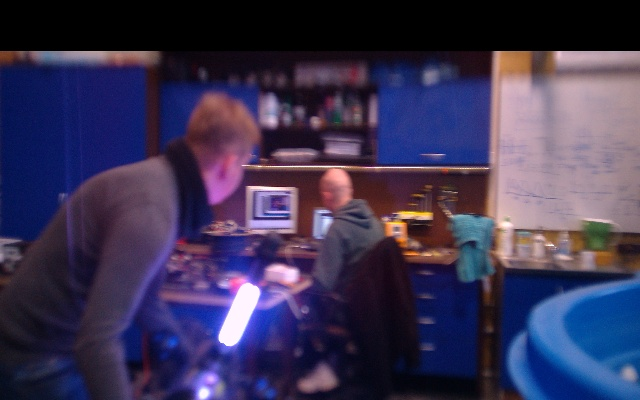white: (217, 283, 261, 346)
